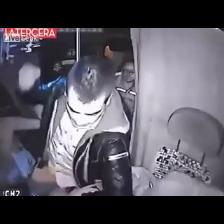person: (19, 57, 132, 195)
